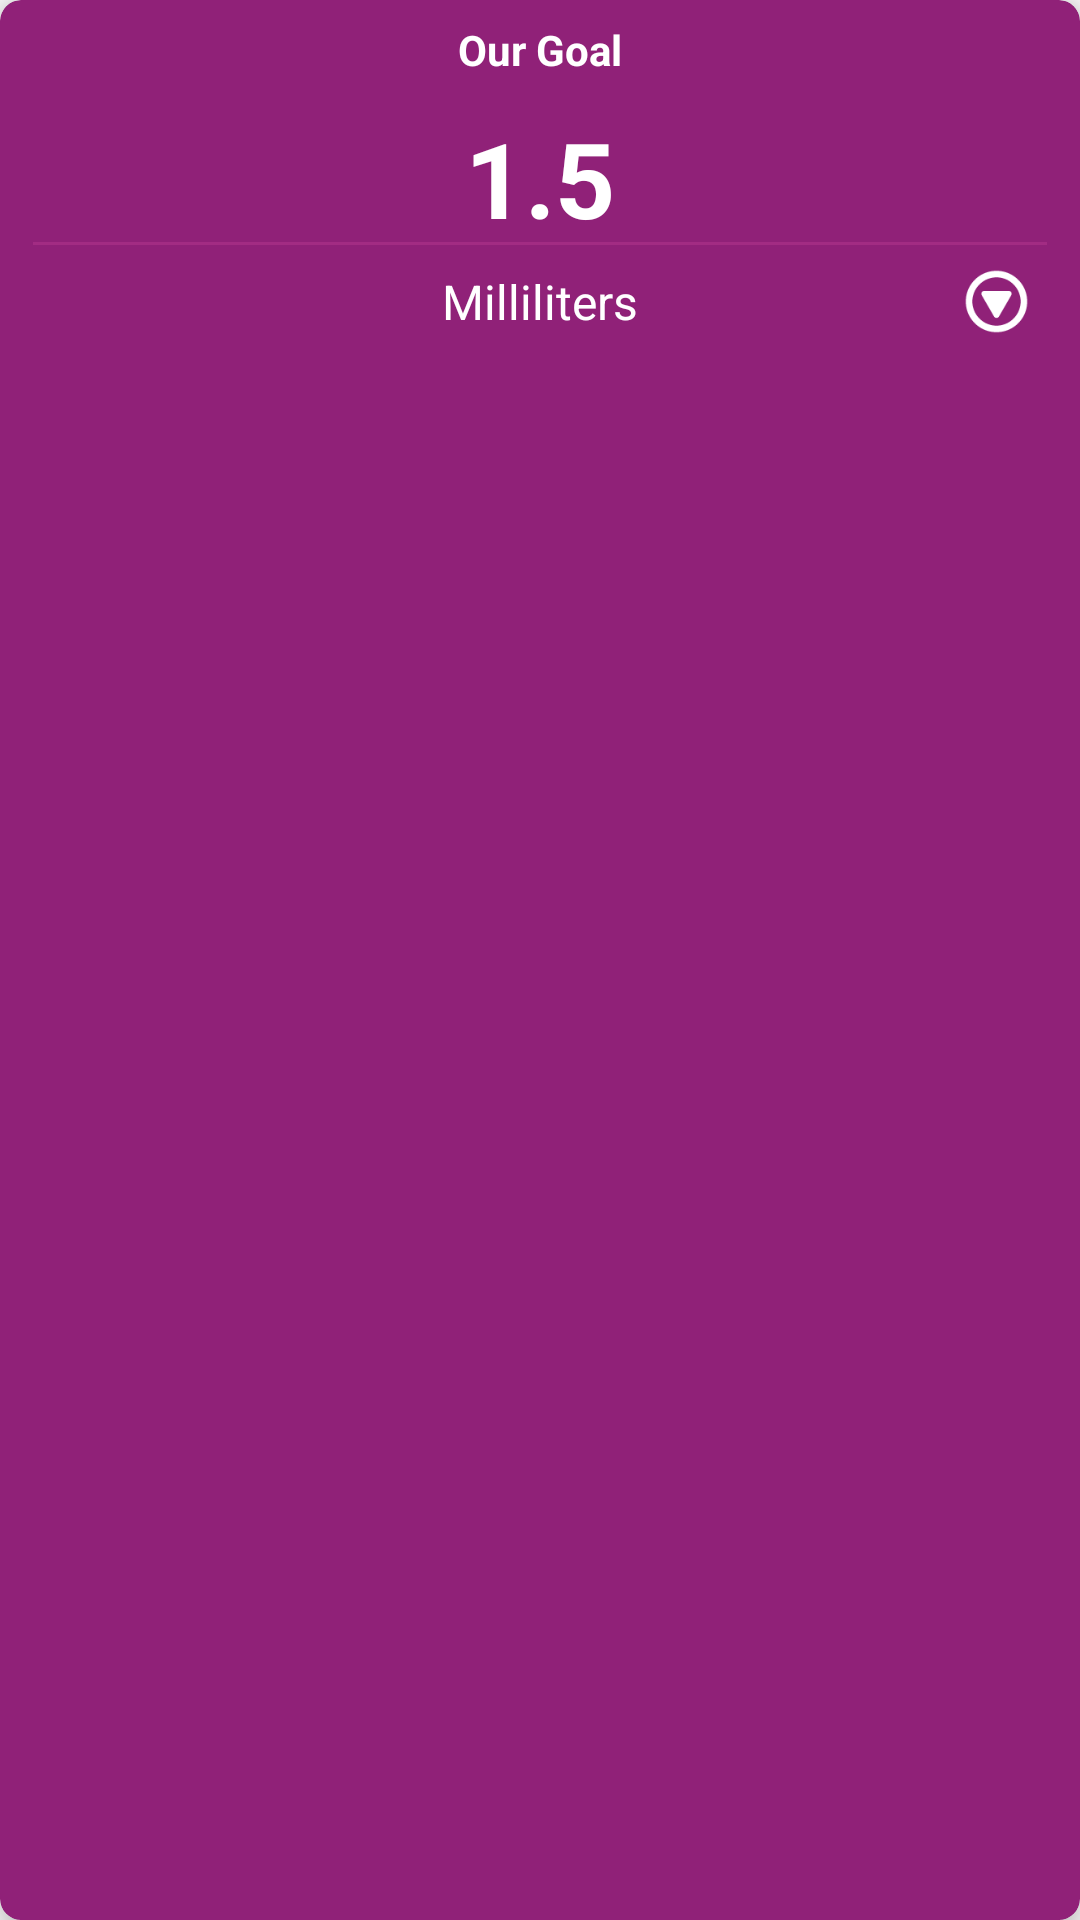

Screen size 1080w x 1920h. Icon name, then its box in pixels as rect(x1, y1, x2, y2):
dropdown: rect(965, 270, 1028, 333)
